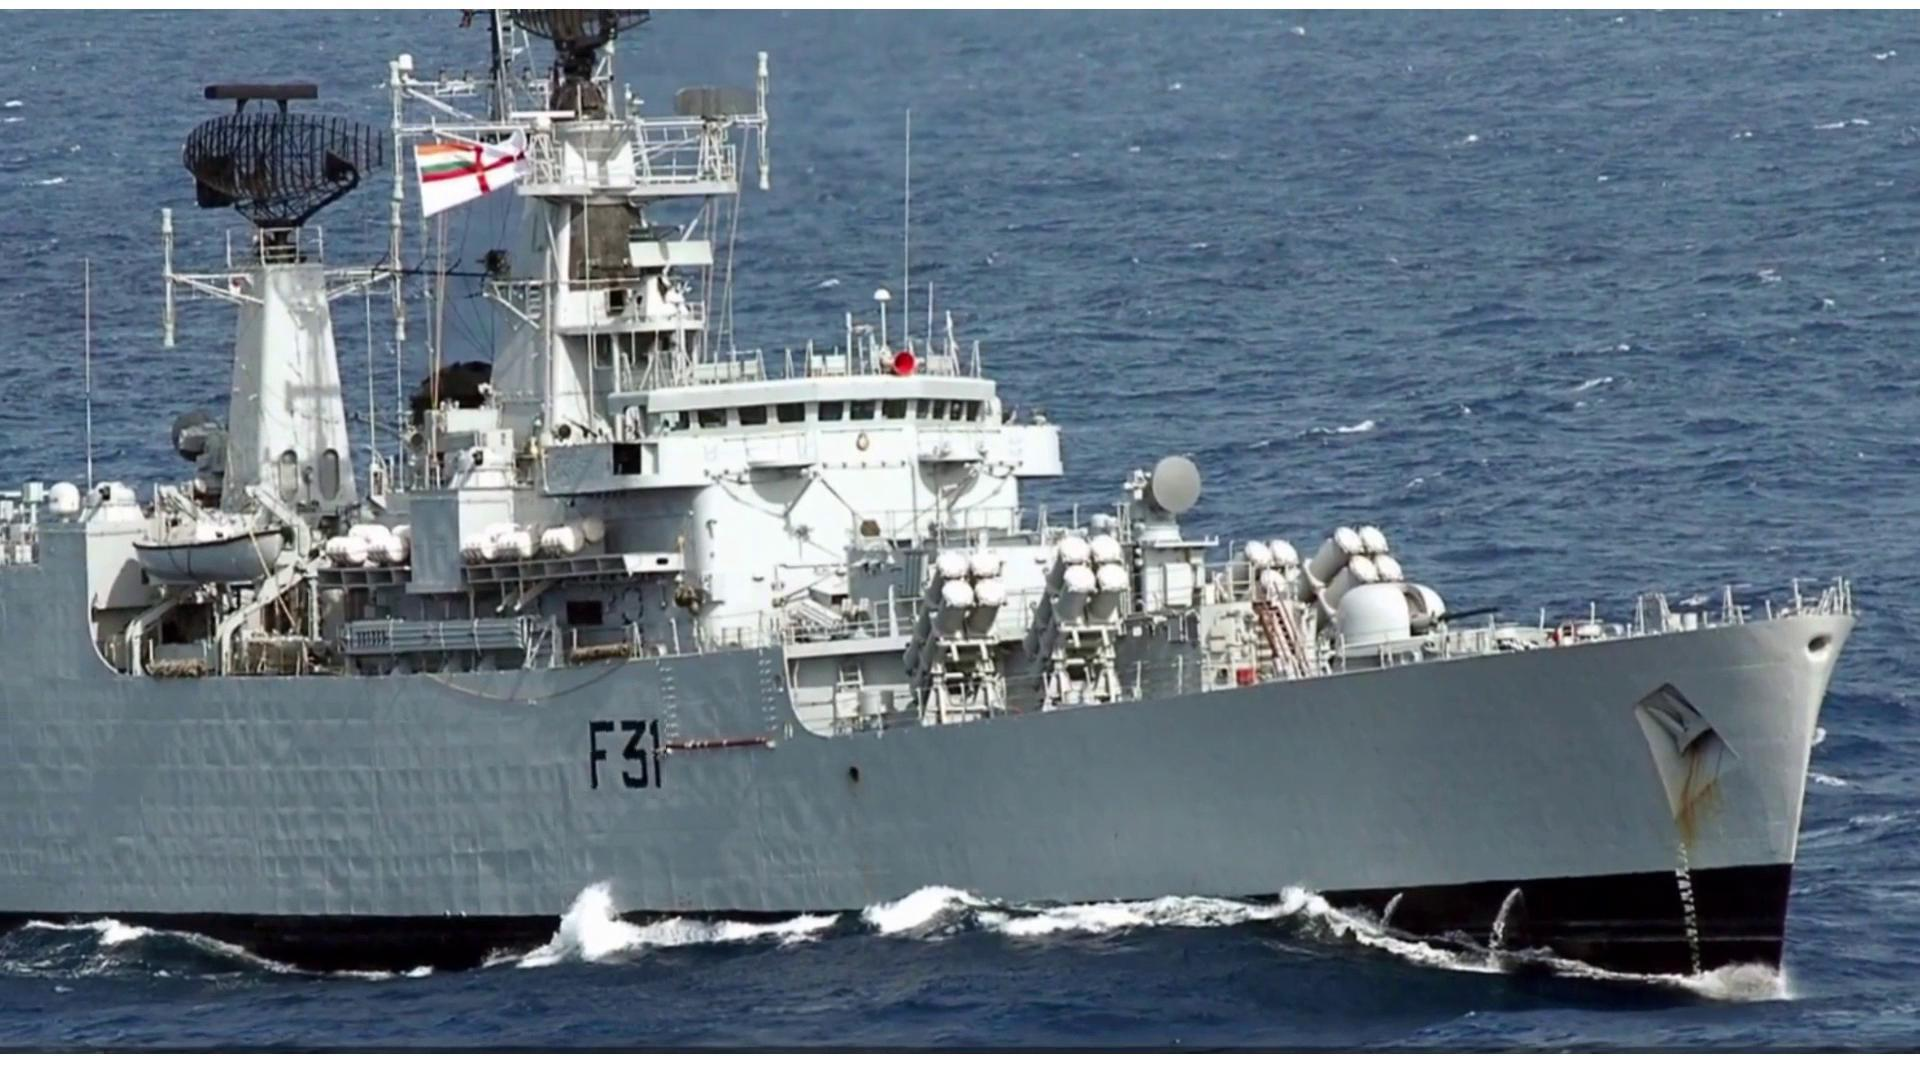OCR: (568, 699, 667, 799)
